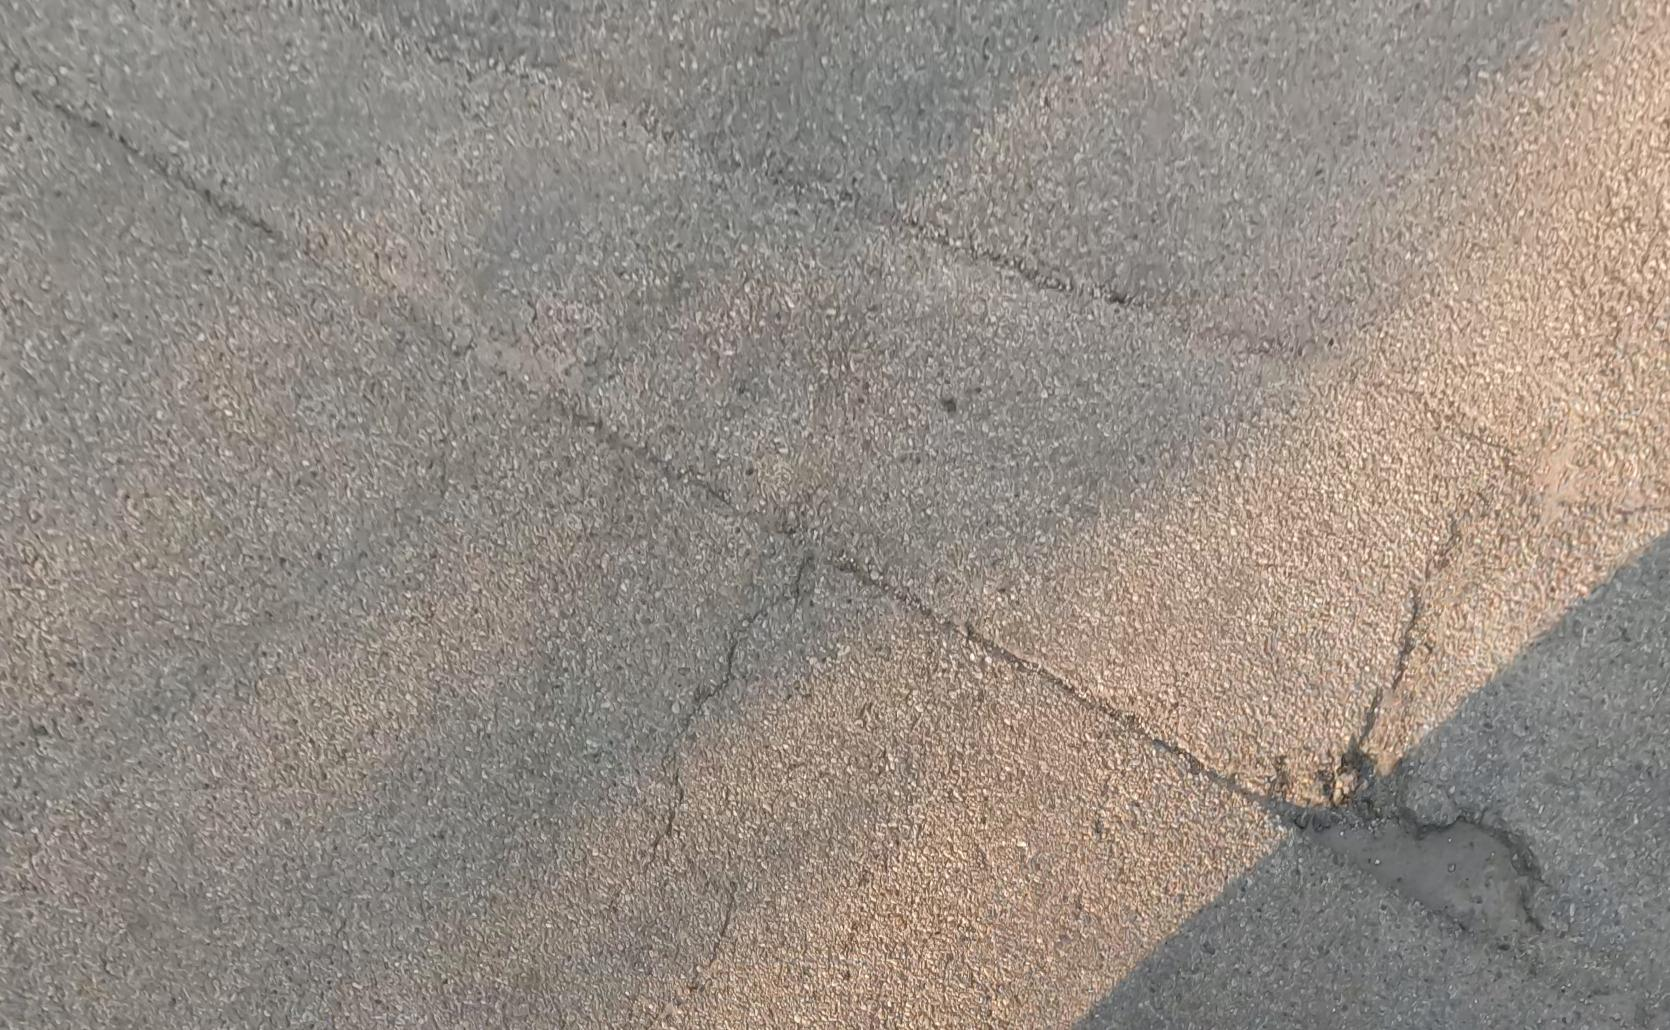pothole: (1312, 821, 1538, 939), (1267, 753, 1416, 834), (1513, 417, 1579, 524)
